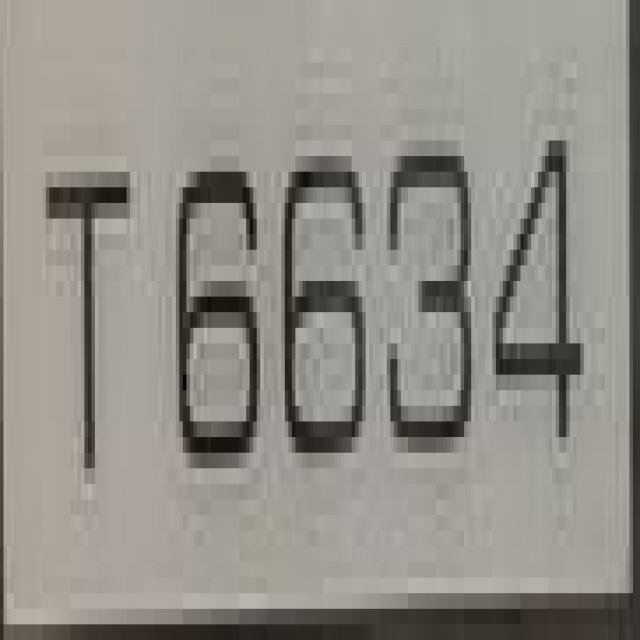license_plate: (14, 15, 594, 640)
